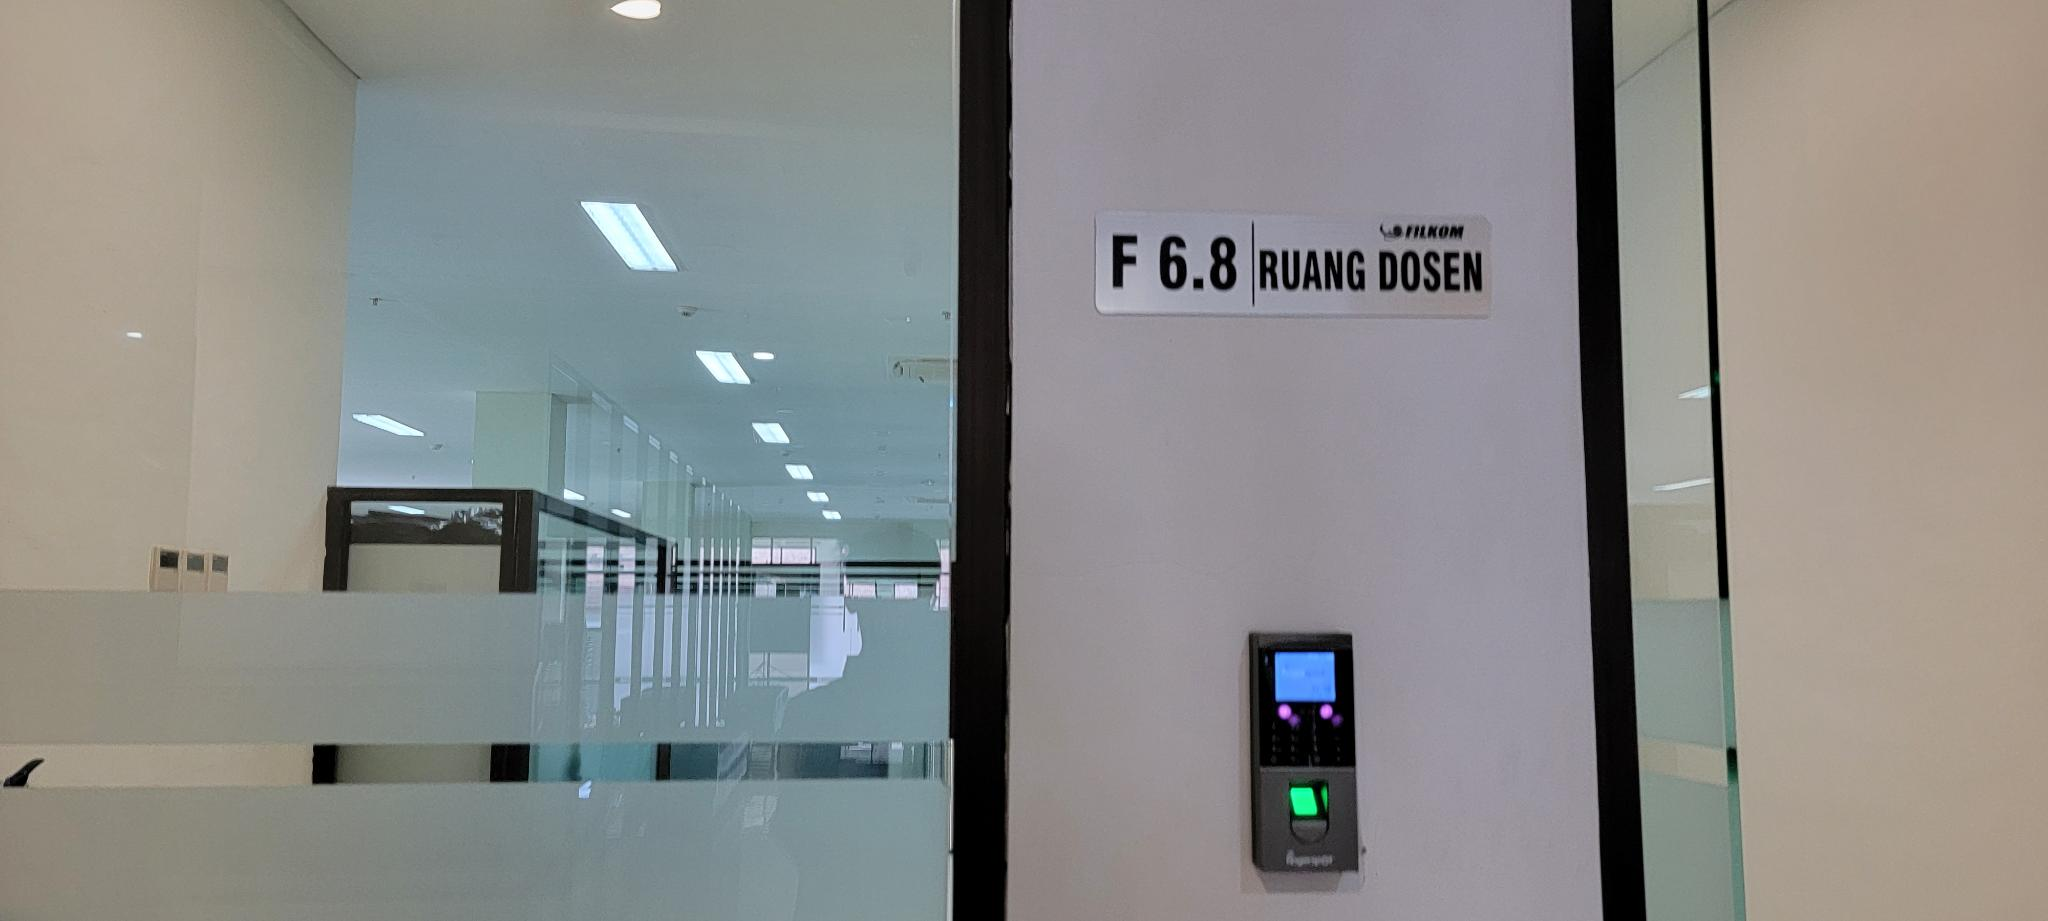plate: (1093, 206, 1489, 320)
